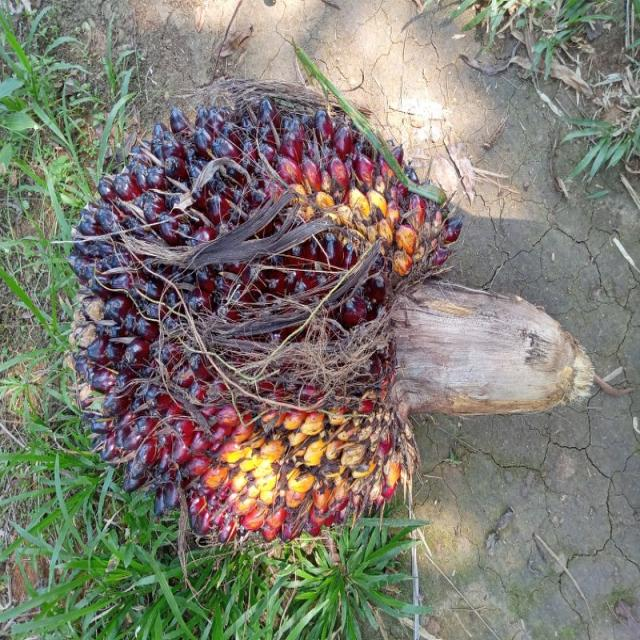fraksi 1: (29, 42, 488, 592)
